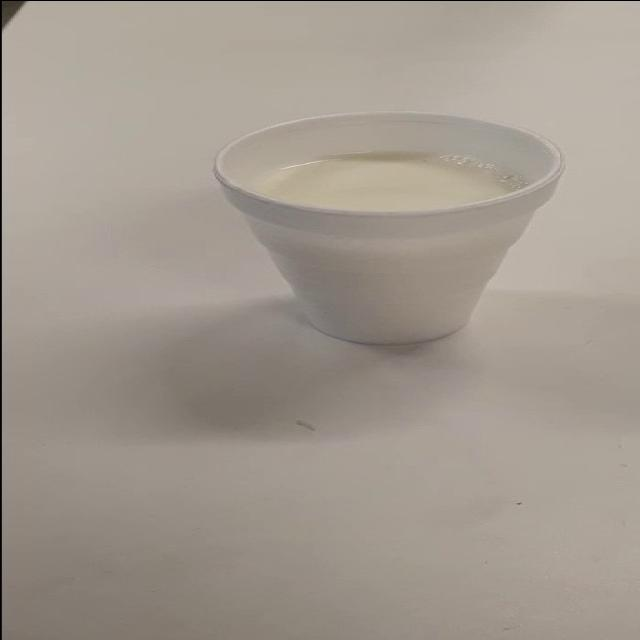Milk: (211, 96, 585, 369)
